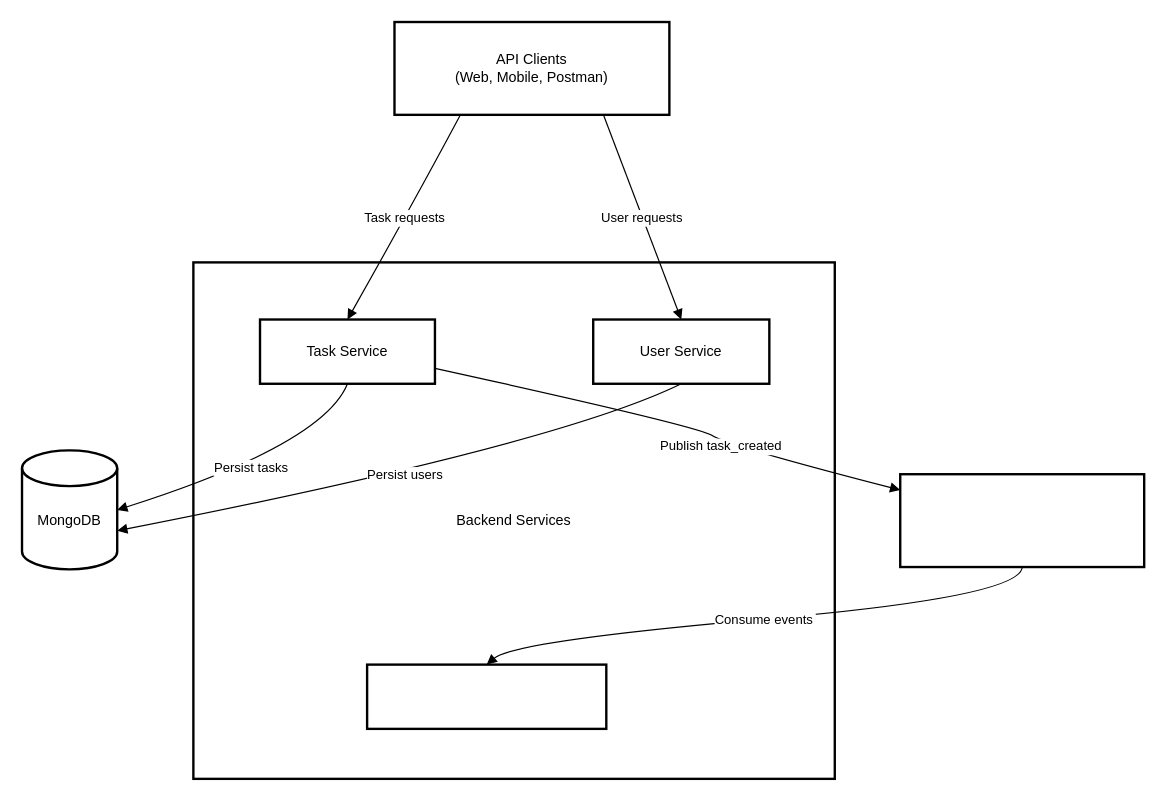
Image size: 1165x800. Some labels were removed from this diagram. The box of each missing label's shape, as (x1, y1, x2, y2) in pixels:
Notification Service: (365, 663, 607, 729)
RabbitMQ task_created events: (898, 472, 1145, 568)
